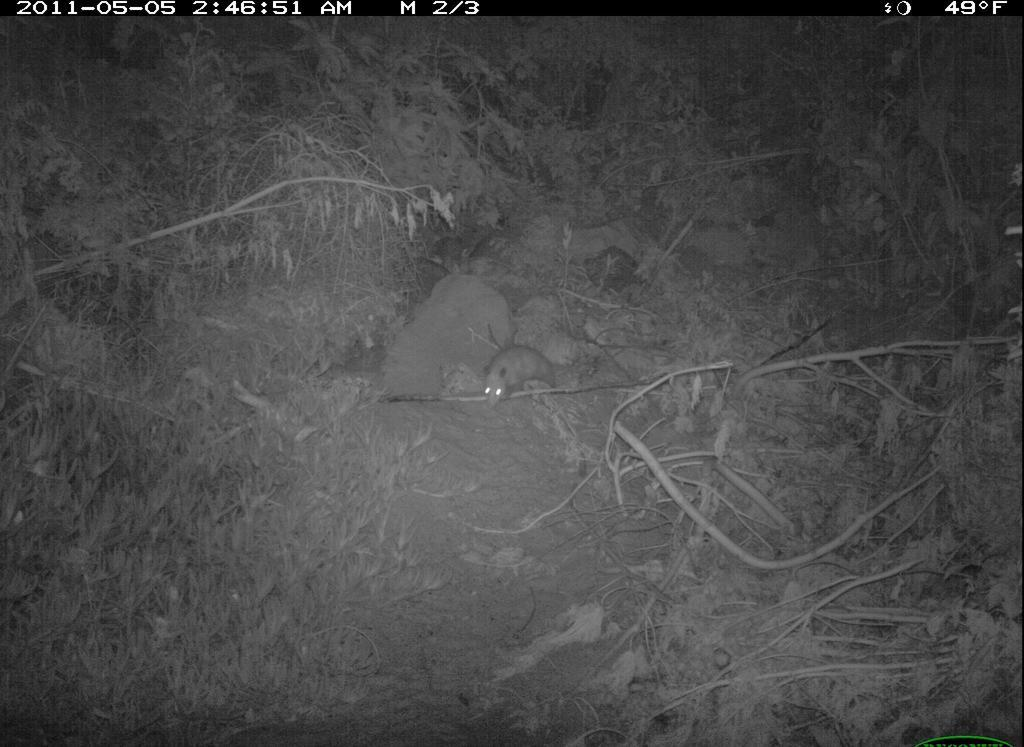opossum: (470, 321, 562, 436)
